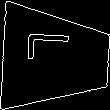L_E: (30, 41, 82, 74)
